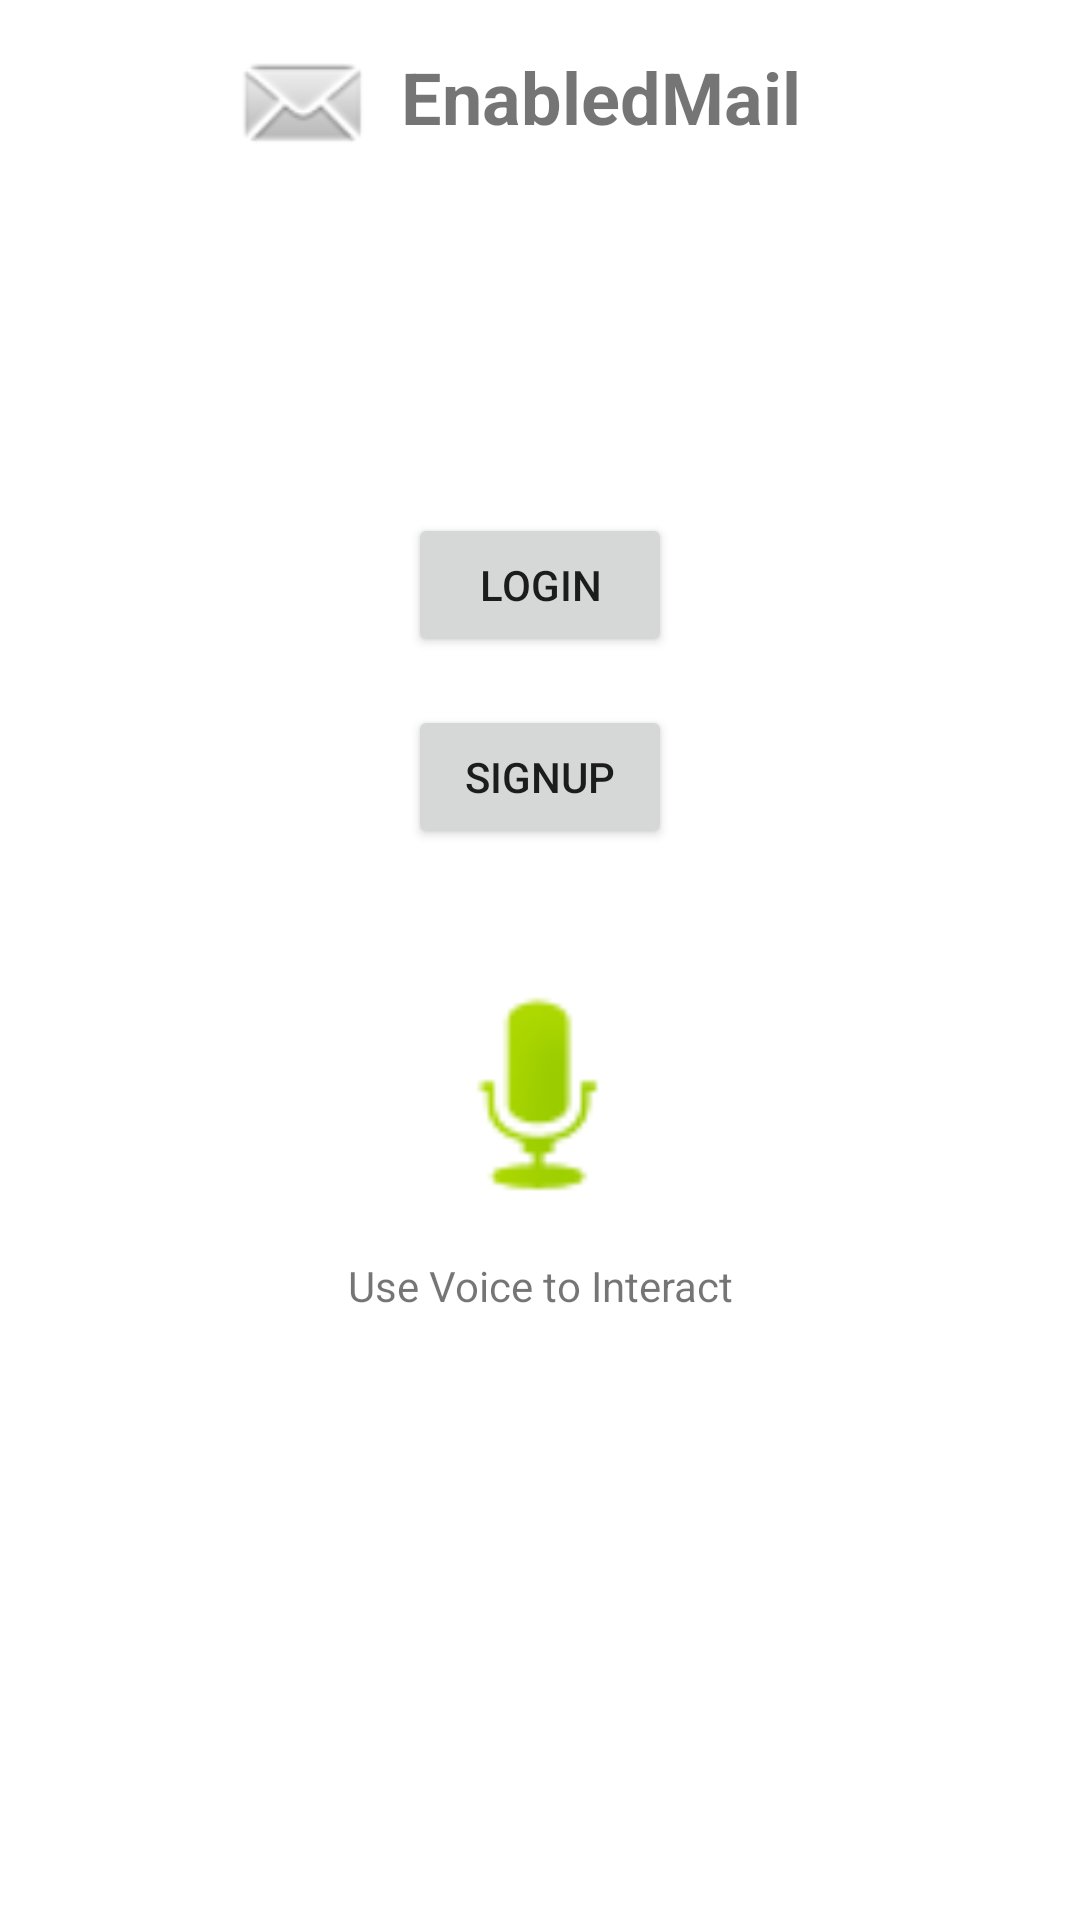

Where to tap for icons on this 1080 × 1920 app screen, as point (x, y):
presence audio online: point (537, 1094)
sym action email: point (303, 102)
